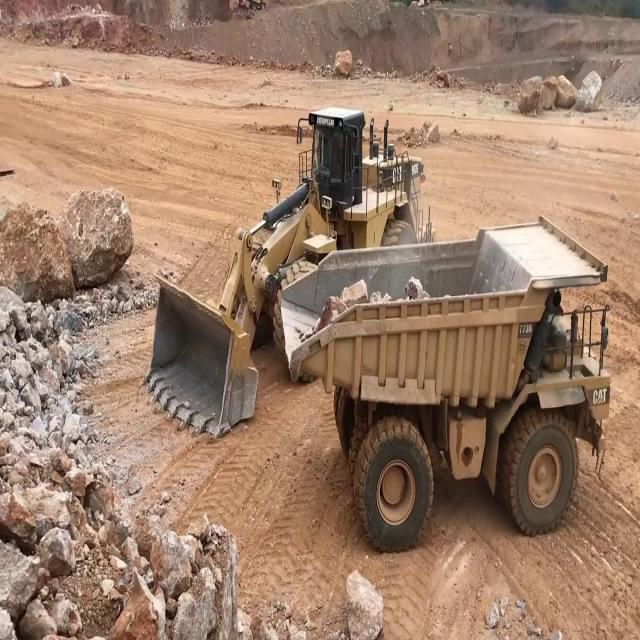Dump Truck: (277, 199, 618, 553)
Loader: (134, 98, 428, 436)
